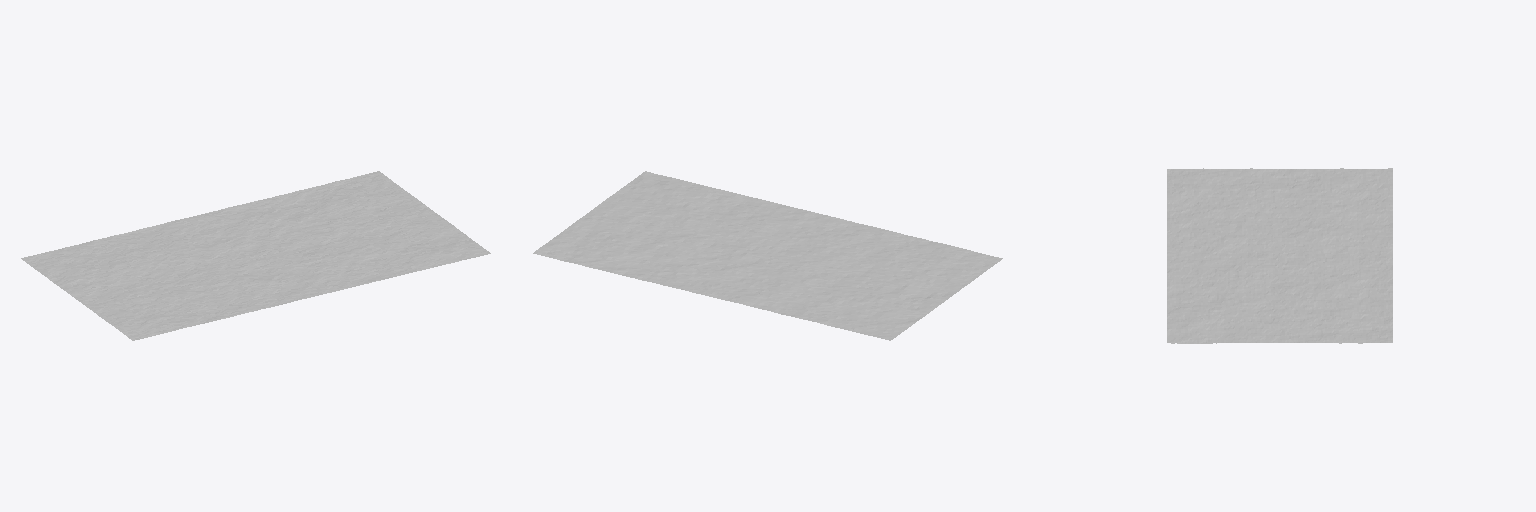
The model's file is water.obj.
3 renders of one model, left to right at view 1: azimuth 30°, elevation 25°; view 2: azimuth 150°, elevation 25°; view 3: azimuth 270°, elevation 25°, orthographic.
Visible parts, largest first — view 1: SWIMMING_POOL_WATER_Mesh; view 2: SWIMMING_POOL_WATER_Mesh; view 3: SWIMMING_POOL_WATER_Mesh.
Boxes of the visible parts, x1=… form: SWIMMING_POOL_WATER_Mesh: x1=21, y1=171, x2=490, y2=340; SWIMMING_POOL_WATER_Mesh: x1=533, y1=171, x2=1002, y2=340; SWIMMING_POOL_WATER_Mesh: x1=1167, y1=168, x2=1392, y2=343.
Size of the model in its own units: 87.29 by 0.2856 by 47.51.